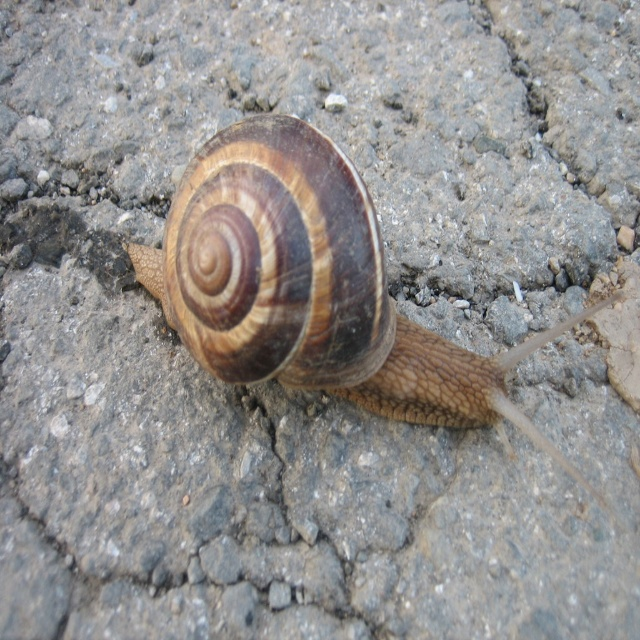Snail: (126, 114, 624, 512)
